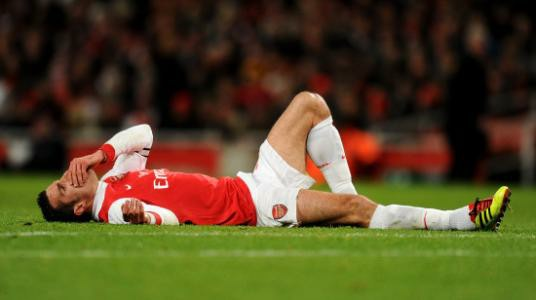fall: (28, 84, 514, 226)
